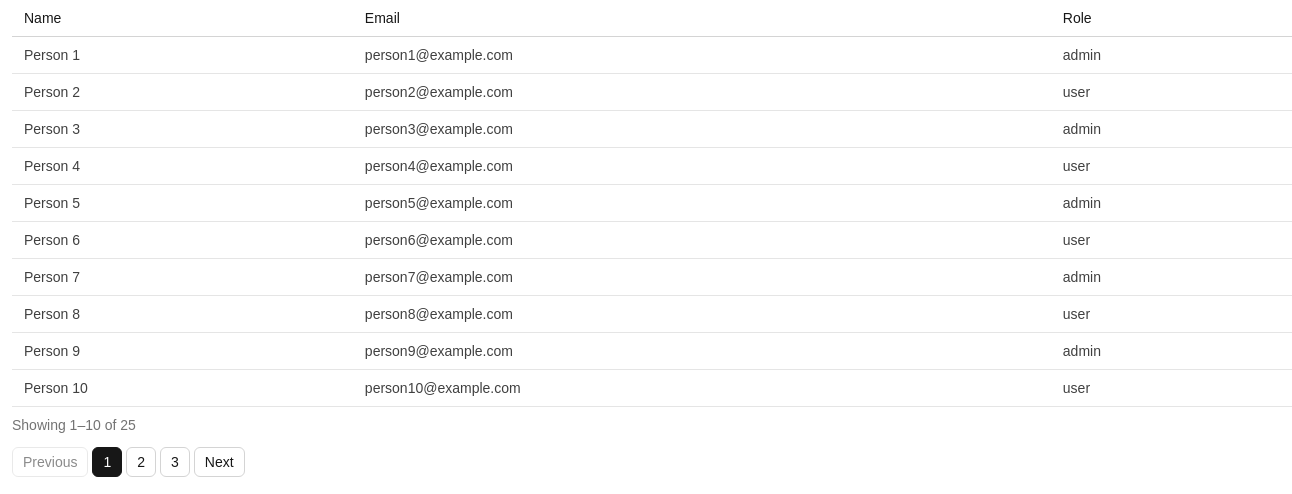
Table local mode › navigating pages updates the rendered rows and the summary
The image size is (1292, 494).
Click the button "2". click: click(141, 462)
box: [126,447,156,477]
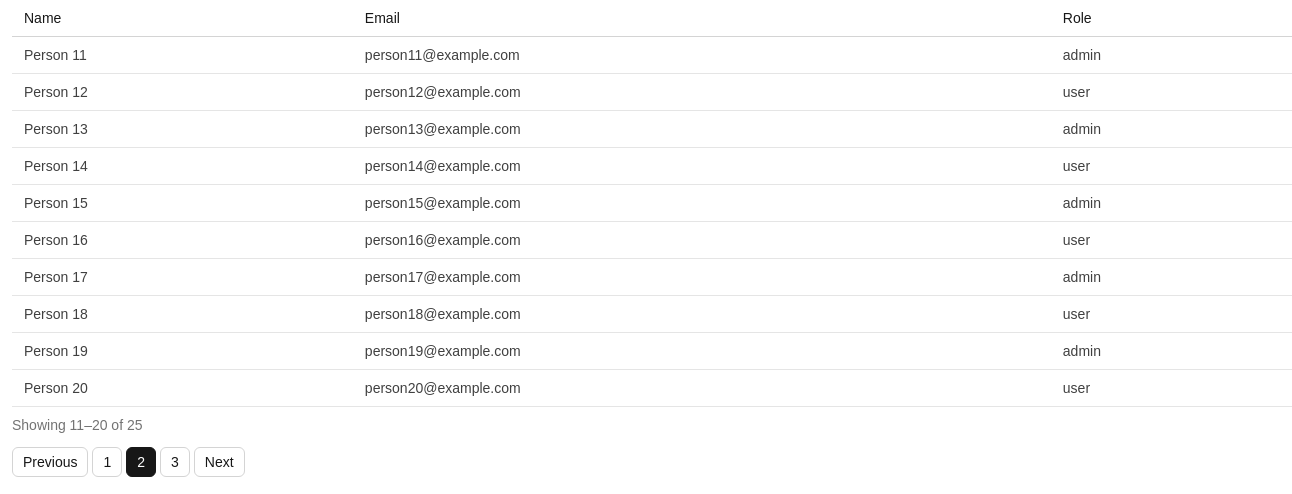
Check: the text "Person 11" is shown, box [12,36,353,74]
Check: the message reads "Showing 11–20 of 25", box [12,417,142,433]
Click the button "Next". click: click(219, 462)
box: [194,447,245,477]
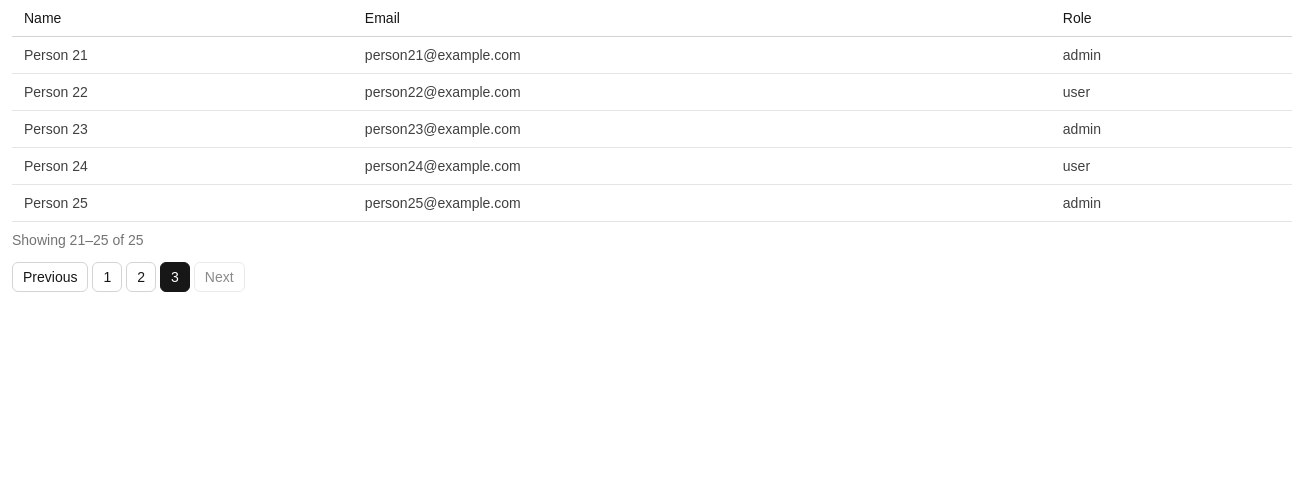
Check: the text "Person 21" is shown, box [12,36,353,74]
Check: the message reads "Showing 21–25 of 25", box [12,232,144,248]
Click the button "Previous". click: click(50, 277)
box: [12,262,88,292]
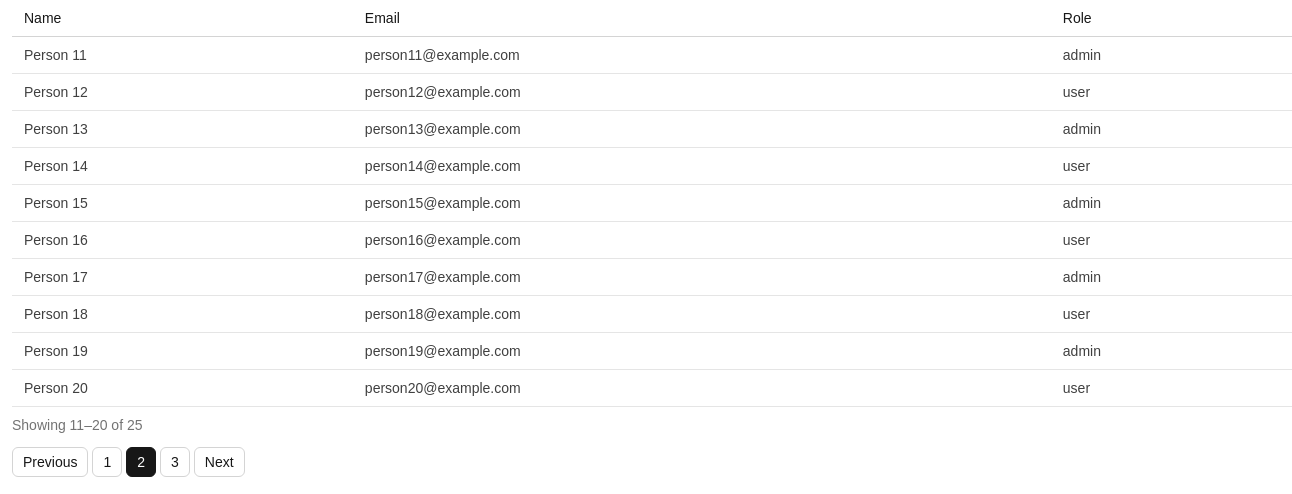
Check: the message reads "Showing 11–20 of 25", box [12,417,142,433]
